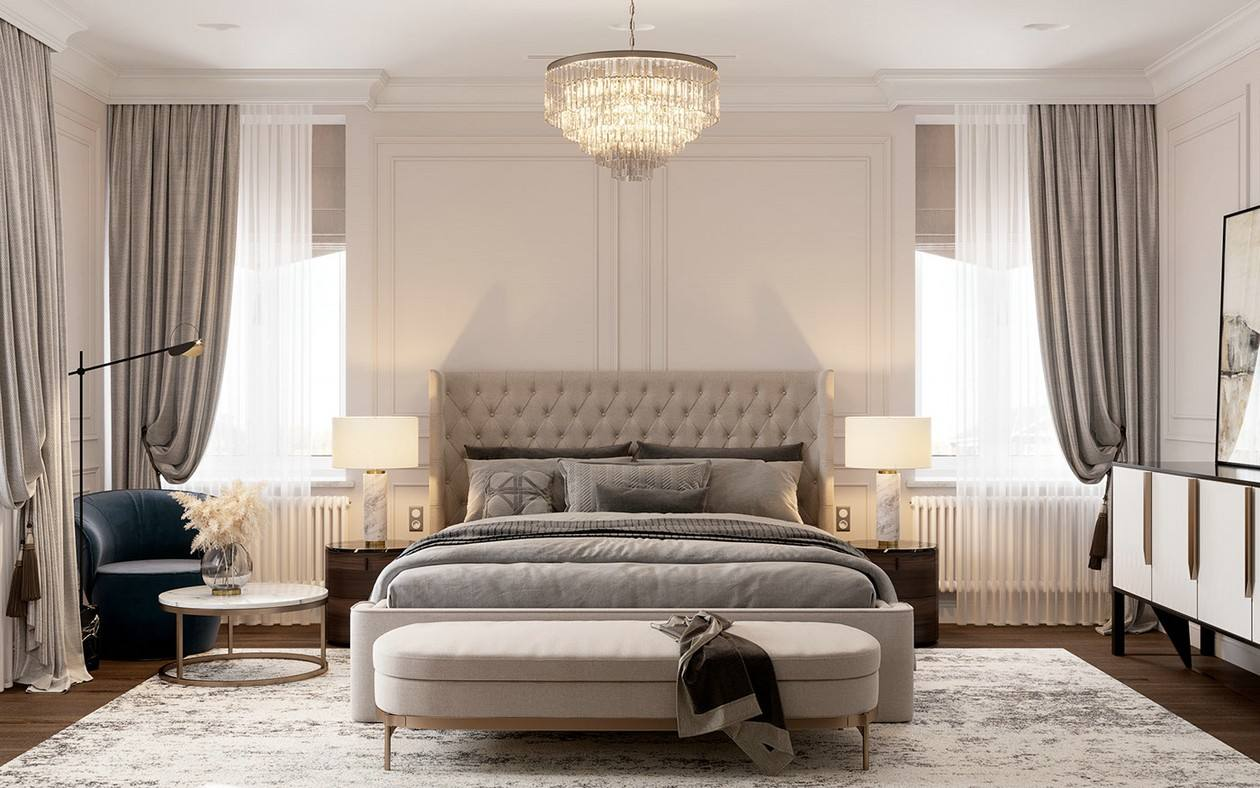床: (360, 505, 904, 768)
枕头: (468, 445, 809, 520)
灯: (540, 20, 731, 184), (57, 337, 192, 516), (845, 412, 940, 557), (329, 412, 421, 555)
